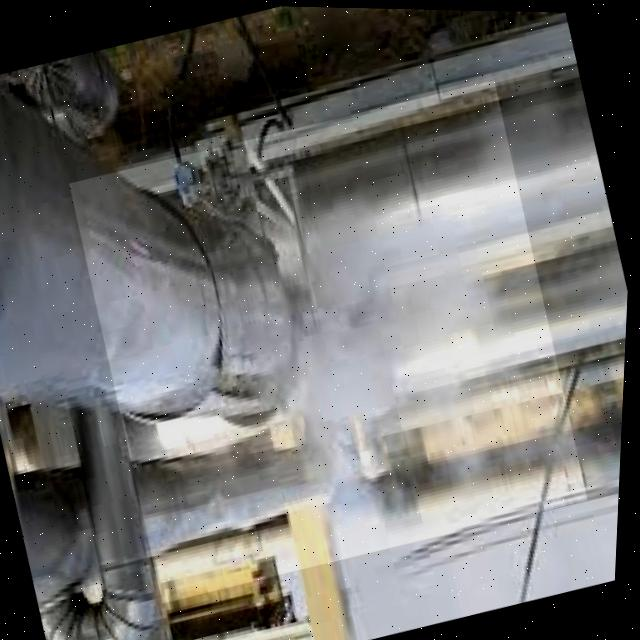corrosion: (150, 225, 407, 531)
